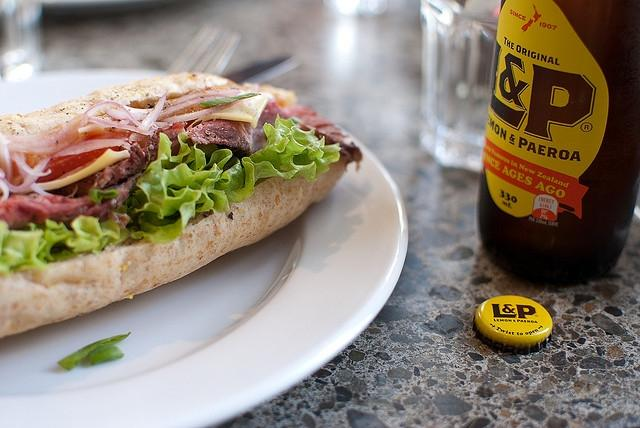lettuce: (127, 114, 341, 244), (58, 331, 132, 370), (4, 222, 48, 272)
tomato: (36, 146, 120, 183), (162, 127, 185, 139)
